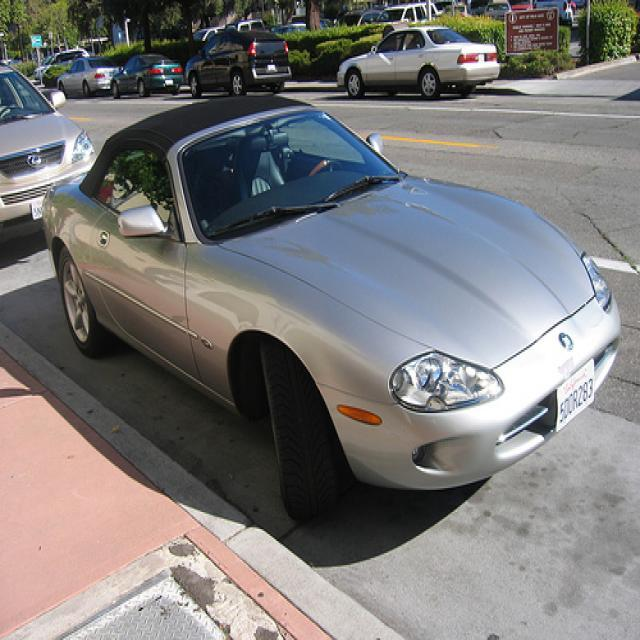Car: (56, 88, 613, 520), (334, 17, 522, 96), (112, 53, 189, 98)
